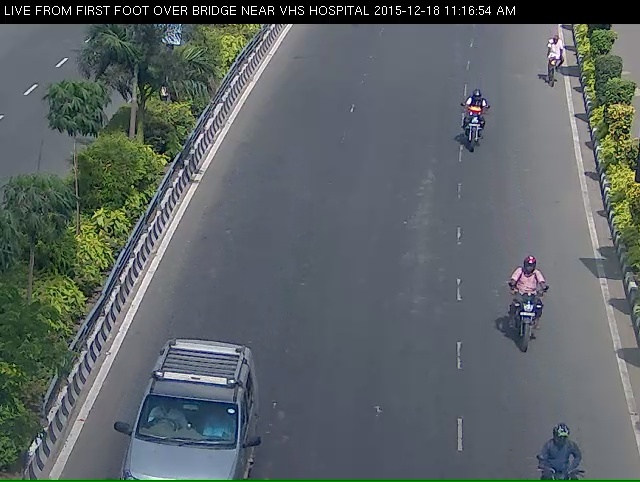Car: (106, 368, 253, 482)
Person: (510, 268, 554, 374), (454, 91, 495, 168)
